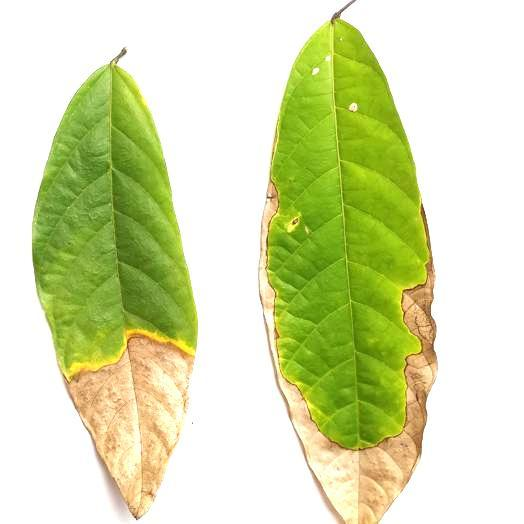Potassium: (260, 4, 435, 523), (33, 54, 196, 517)
